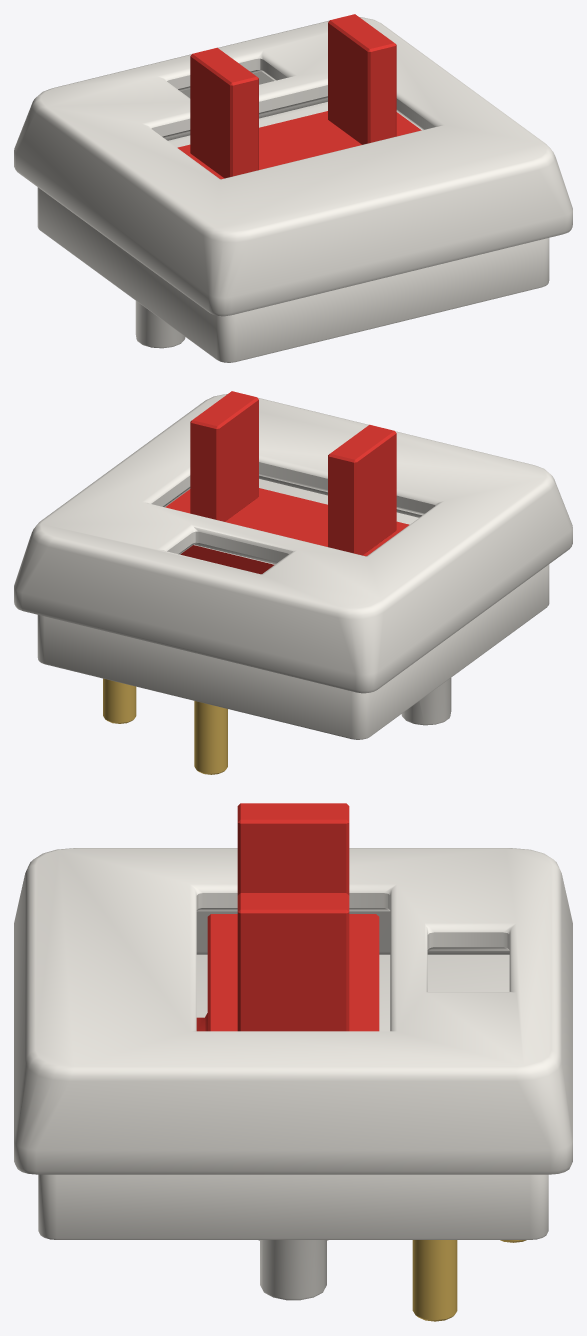
Rendered from switch_choc.glb.
3 renders of one model, top to bottom at view 1: azimuth 30°, elevation 25°; view 2: azimuth 150°, elevation 25°; view 3: azimuth 270°, elevation 25°, orthographic. The views are drawn at different scales.
Visible parts, largest first — view 1: top, bottom, stem_clicky; view 2: top, bottom, stem_clicky, pins; view 3: top, bottom, stem_clicky, pins, stem_tactile.
Part boxes in pixels (box(x1,y1,x2,y2)): top: box(14, 17, 572, 316); bottom: box(37, 102, 549, 362); stem_clicky: box(177, 14, 421, 179); top: box(14, 394, 572, 693); bottom: box(37, 479, 549, 739); stem_clicky: box(165, 391, 409, 574); pins: box(103, 678, 227, 774); top: box(14, 848, 572, 1174); bottom: box(38, 954, 548, 1300); stem_clicky: box(207, 803, 379, 1031); pins: box(412, 1240, 526, 1321); stem_tactile: box(196, 806, 349, 1031).
Size of the model in its own units: 0.015 by 0.0112 by 0.015.
